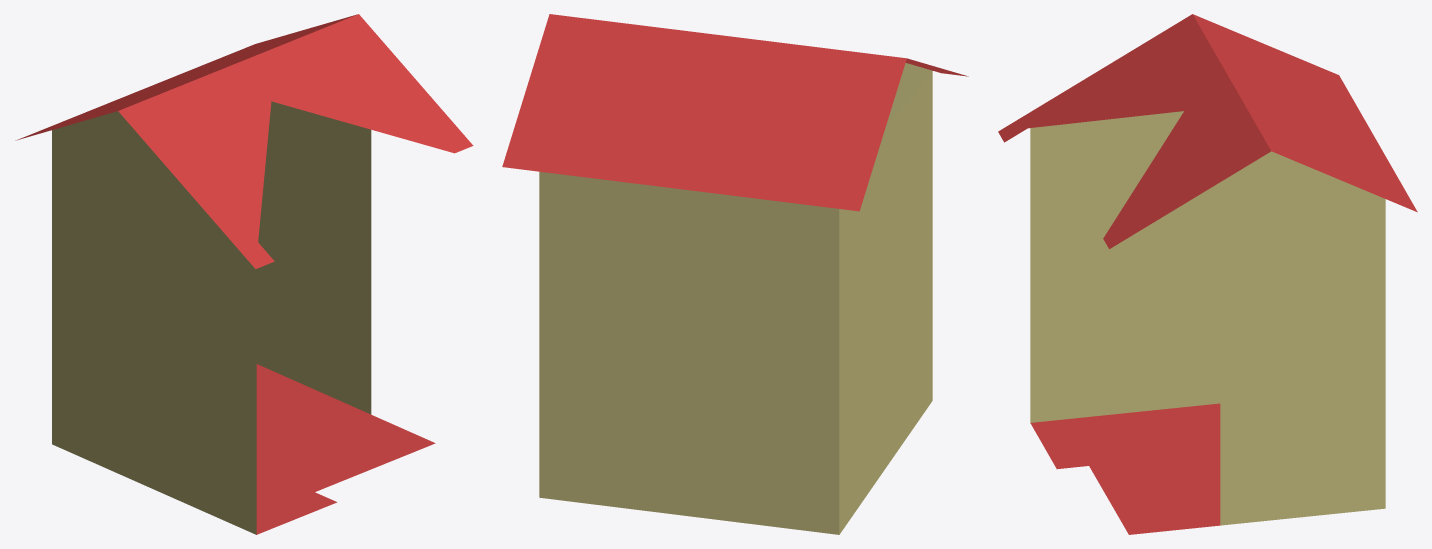
The picture shows the model from 3 angles, left to right: view 1: azimuth 30°, elevation 25°; view 2: azimuth 150°, elevation 25°; view 3: azimuth 270°, elevation 25°; orthographic projection. The views are drawn at different scales.
Bounding box in the file's own units: 11.21 × 11.77 × 11.78.
